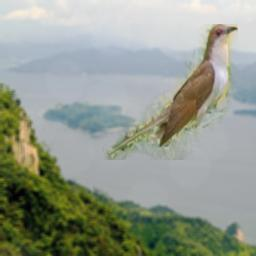Cuckoo: (102, 24, 238, 160)
